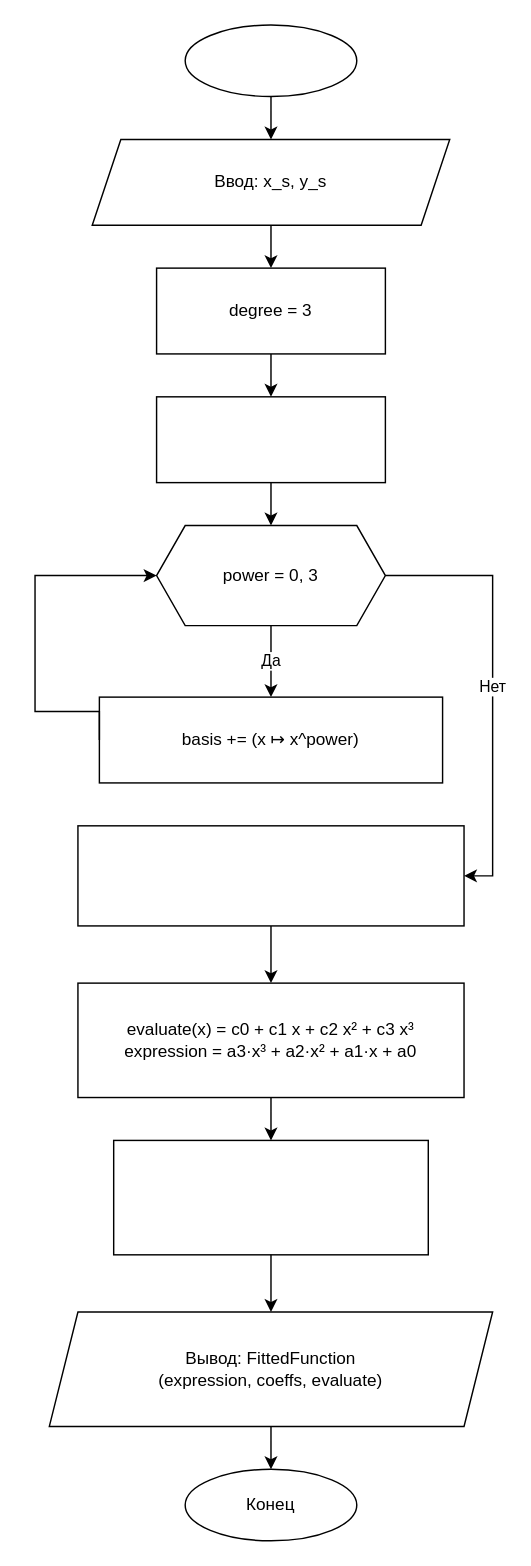
Image size: 531x1566. Some labels were removed from this diagram. The box of each missing label's shape, as (x1, y1, x2, y2) in pixels:
basis = [ ]: (155, 395, 385, 483)
c = least_squares_by_basis (x_s, y_s, basis): (77, 824, 464, 926)
coeffs = {a0:c0, a1:c1, a2:c2, a3:c3}: (112, 1139, 428, 1255)
Начало: (184, 24, 357, 97)
